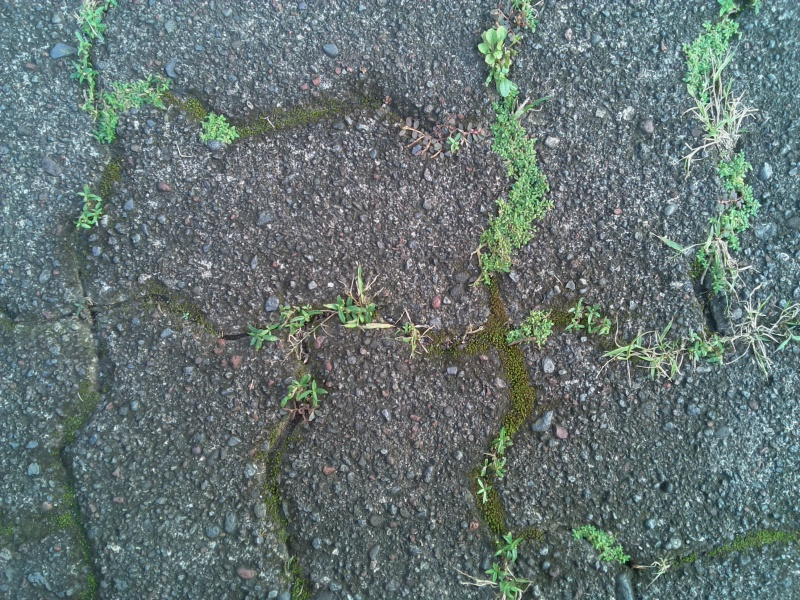Weed: (460, 99, 572, 282), (703, 153, 777, 247), (681, 4, 749, 99), (621, 323, 707, 385), (88, 77, 171, 139), (684, 85, 757, 155), (684, 219, 754, 289), (720, 304, 797, 363), (325, 276, 388, 341), (470, 27, 527, 97), (567, 520, 632, 571), (193, 104, 251, 156), (65, 181, 114, 237), (503, 304, 555, 355), (270, 295, 317, 351), (276, 372, 331, 418), (565, 290, 613, 338), (390, 317, 431, 366), (432, 115, 472, 160), (72, 3, 112, 46), (484, 430, 514, 482), (486, 560, 527, 597), (236, 317, 275, 351), (641, 551, 681, 584), (69, 53, 100, 89), (491, 528, 523, 560)
